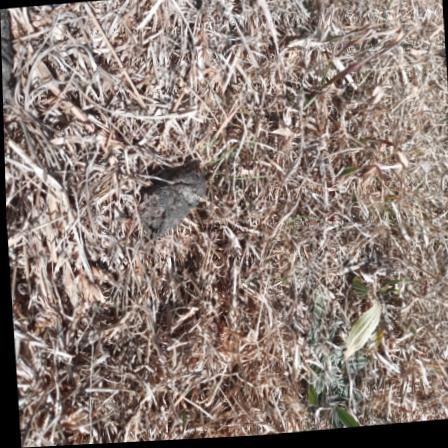dog-poop: (139, 153, 214, 242)
